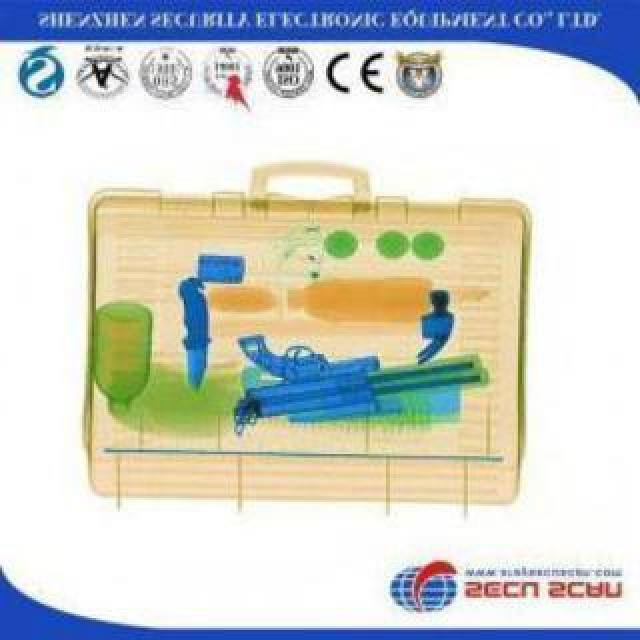gun: (234, 330, 498, 418)
knife: (180, 278, 216, 386)
